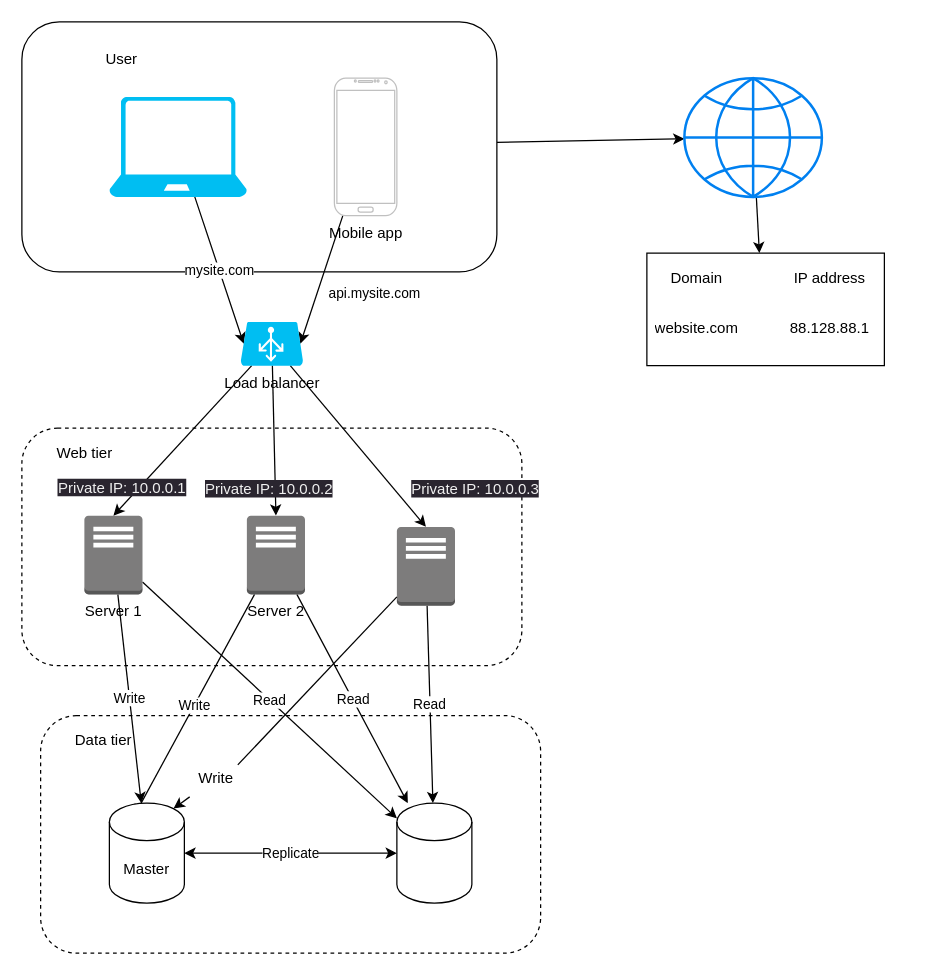
Image size: 935x975. Some labels were removed from this diagram. Each missing label, with the box of its shape:
Server 3: (396, 526, 455, 606)
Slave: (396, 802, 472, 903)
Web browser: (109, 96, 246, 196)
